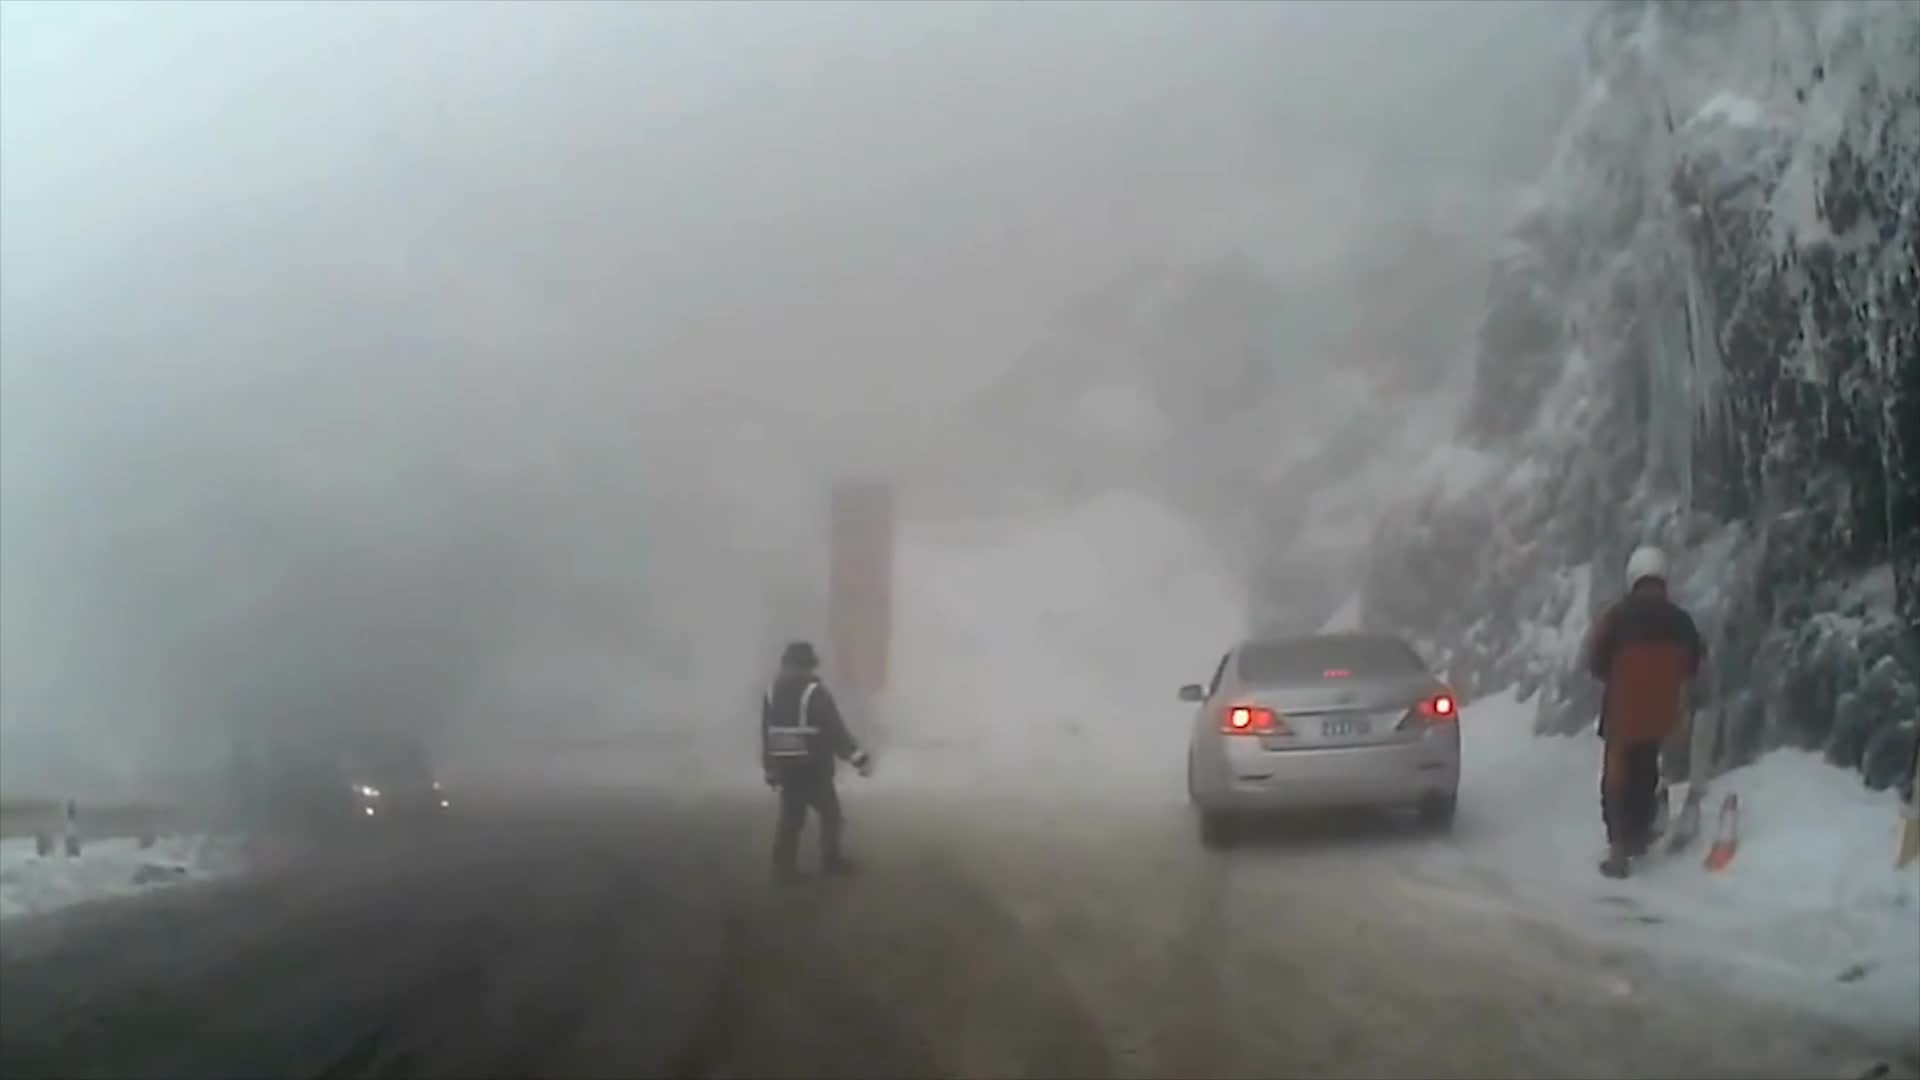pedestrian: (1589, 545, 1706, 882), (762, 643, 872, 882)
vehicle: (1176, 632, 1463, 853)
